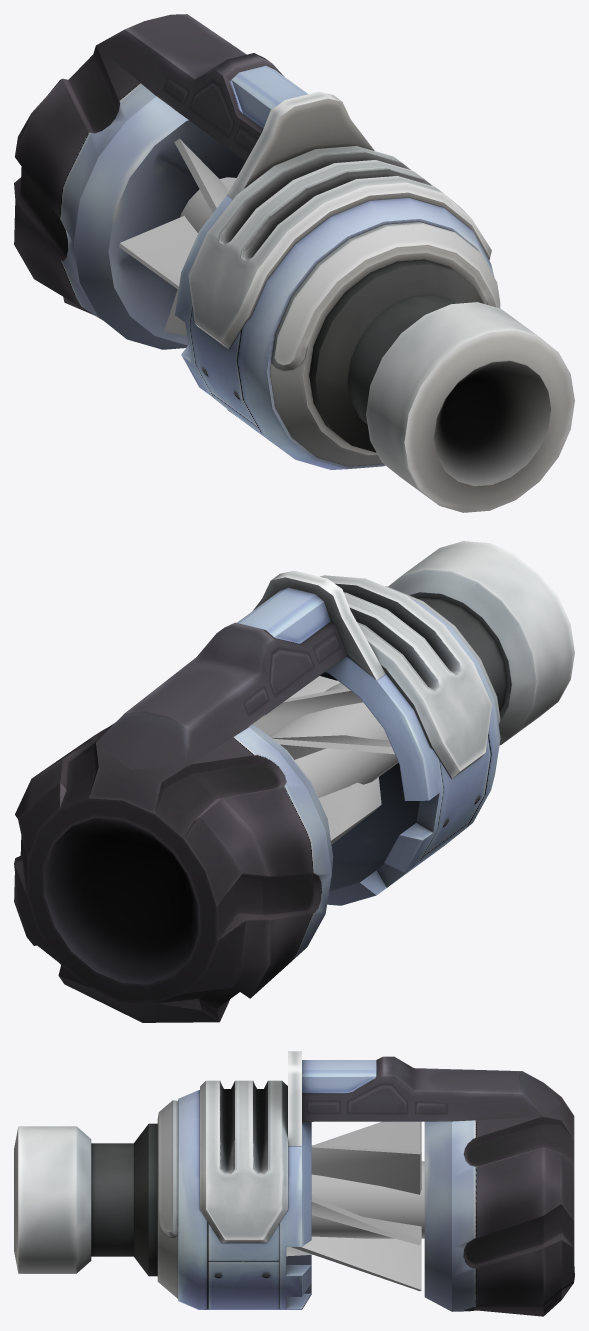
The model's file is Wind Launcher.fbx.
3 renders of one model, top to bottom at view 1: azimuth 30°, elevation 25°; view 2: azimuth 150°, elevation 25°; view 3: azimuth 270°, elevation 25°, orthographic. The views are drawn at different scales.
Visible parts, largest first — view 1: Wind_Launcher, Wind_Launcher_Blades; view 2: Wind_Launcher, Wind_Launcher_Blades; view 3: Wind_Launcher, Wind_Launcher_Blades.
Part boxes in pixels (x1,y1,x2,y2): Wind_Launcher: [14, 14, 574, 512]; Wind_Launcher_Blades: [119, 138, 236, 335]; Wind_Launcher: [14, 541, 574, 1022]; Wind_Launcher_Blades: [253, 676, 398, 844]; Wind_Launcher: [14, 1051, 574, 1316]; Wind_Launcher_Blades: [286, 1121, 424, 1291].
Size of the model in its own units: 14.62 by 17.08 by 35.44.
